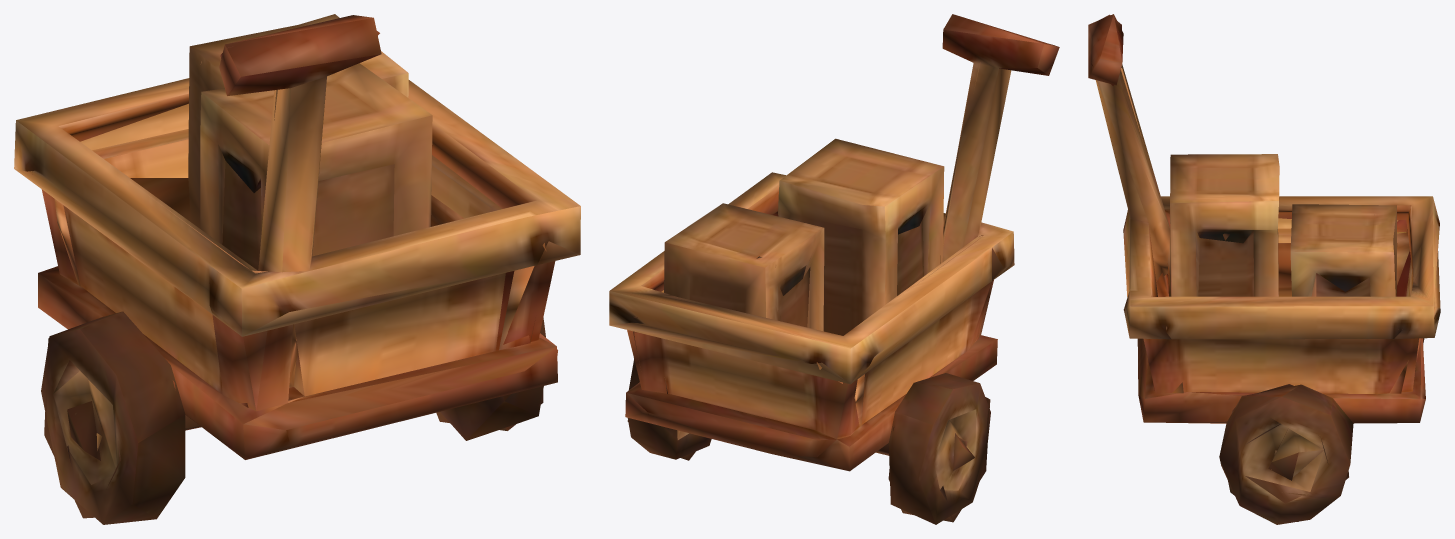
File: lg-handcart.glb
The picture shows the model from 3 angles, left to right: view 1: azimuth 30°, elevation 25°; view 2: azimuth 150°, elevation 25°; view 3: azimuth 270°, elevation 25°; orthographic projection. The views are drawn at different scales.
Visible parts, largest first — view 1: geometry_0; view 2: geometry_0; view 3: geometry_0.
Part boxes in pixels (left/top/right/bottom): geometry_0: left=14, top=14, right=580, bottom=524; geometry_0: left=609, top=14, right=1059, bottom=524; geometry_0: left=1088, top=14, right=1440, bottom=524.
Size of the model in its own units: 0.8101 by 1 by 0.8396.
Materials: 1 (1 with a texture image).
